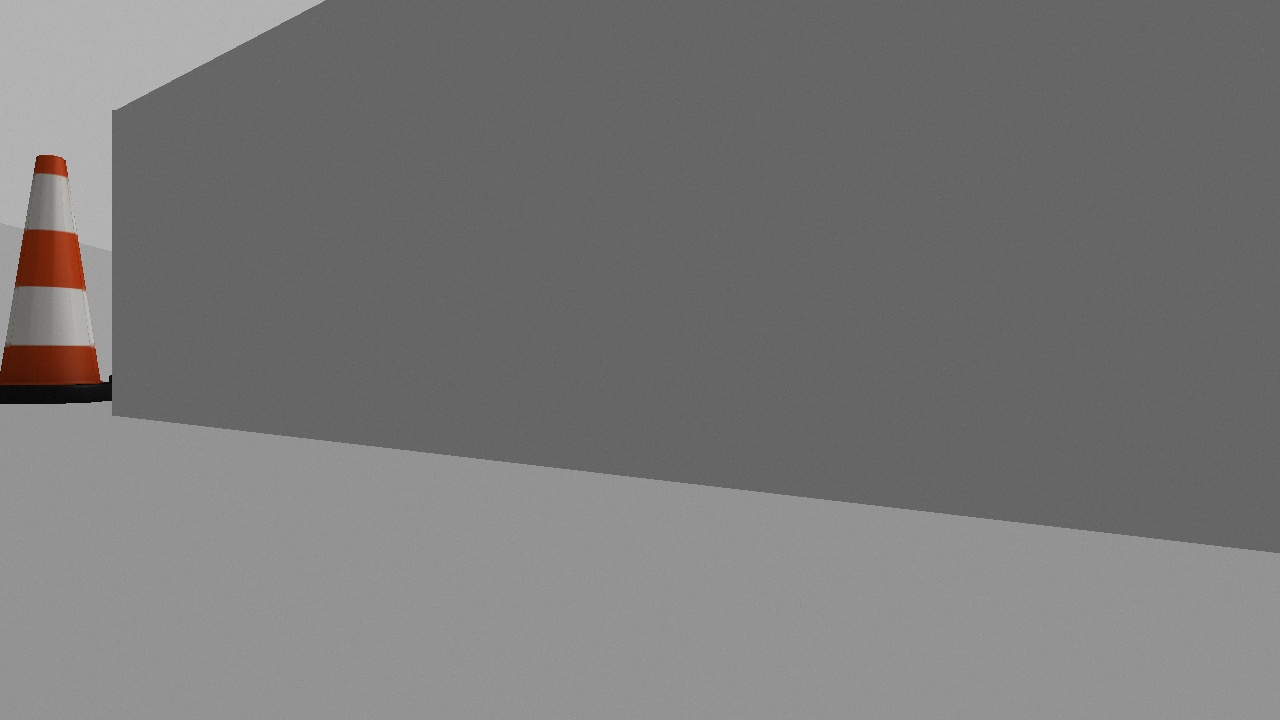barricade: (1, 146, 112, 404)
